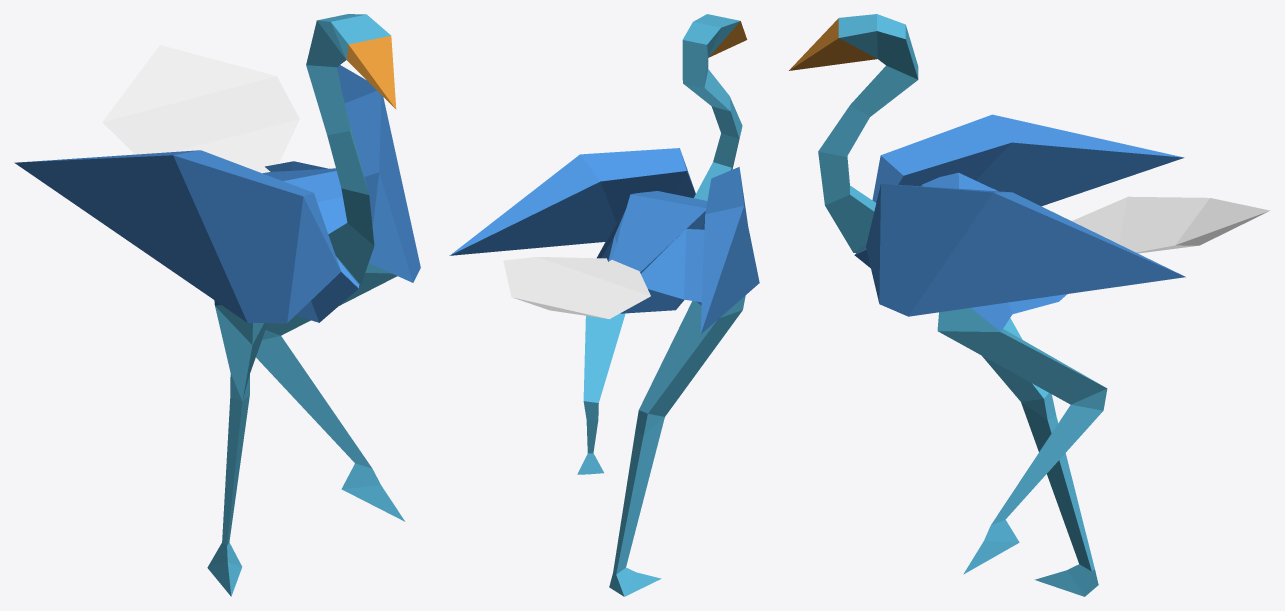
File: birdRun.gltf
The picture shows the model from 3 angles, left to right: view 1: azimuth 30°, elevation 25°; view 2: azimuth 150°, elevation 25°; view 3: azimuth 270°, elevation 25°; orthographic projection. The views are drawn at different scales.
Visible parts, largest first — view 1: BirdRun.000; view 2: BirdRun.000; view 3: BirdRun.000.
Part boxes in pixels (x1,y1,x2,y2): BirdRun.000: (14, 14, 420, 596); BirdRun.000: (449, 14, 759, 596); BirdRun.000: (789, 14, 1269, 596).
Size of the model in its own units: 2.36 by 4.49 by 3.44.
